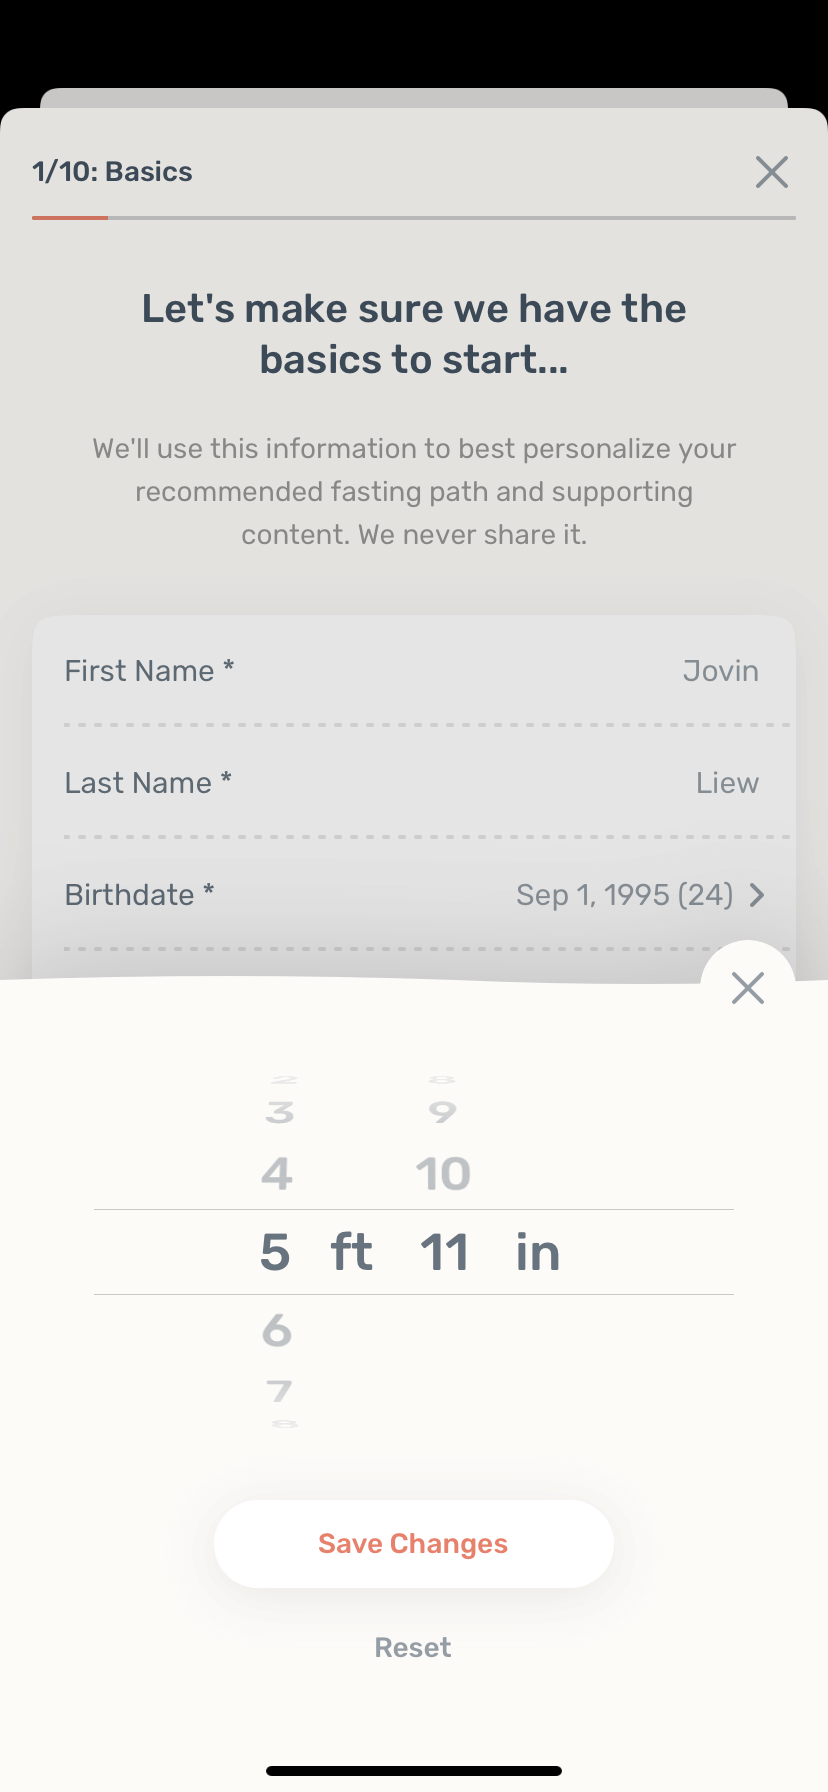Buttons: (210, 1494, 624, 1597), (671, 917, 819, 1035), (347, 1616, 486, 1681), (741, 142, 801, 192)
Pickers: (43, 1030, 775, 1495)
Progress indicators: (24, 197, 805, 235)
